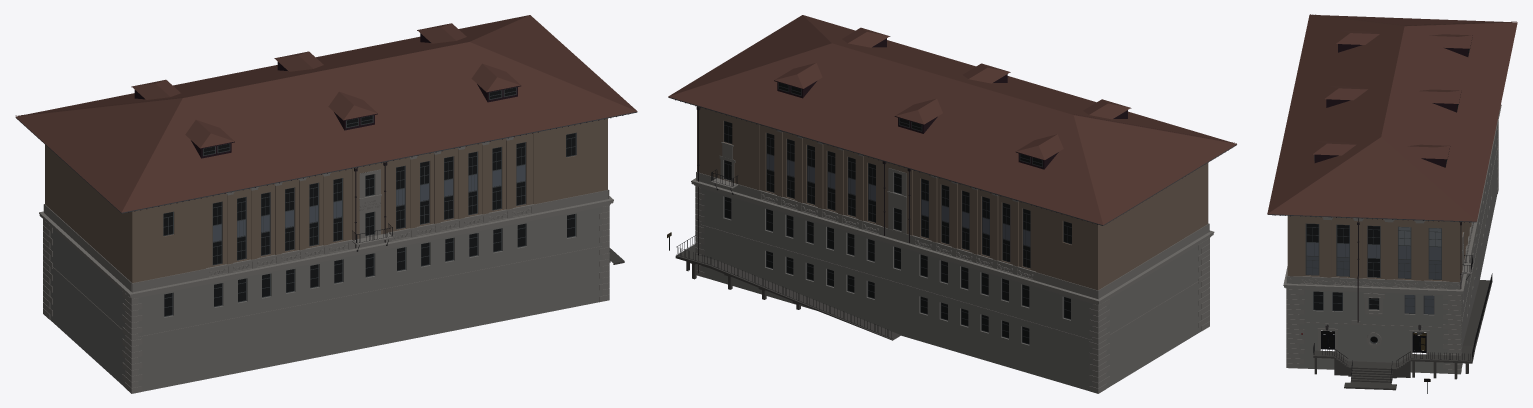
File: will-c-hogg-building-look.glb
3 views of the same model, side by side, from view 1: azimuth 30°, elevation 25°; view 2: azimuth 150°, elevation 25°; view 3: azimuth 270°, elevation 25° (orthographic). The views are drawn at different scales.
Parts seen in each view (by area): view 1: n_roof_tile, n_wall_stone, n_wall_brick, n_trim_stone, n_glass_window, n_frame_green, n_panel_spandrel, n_wood_redbrown, n_gutter_dark; view 2: n_roof_tile, n_wall_stone, n_wall_brick, n_trim_stone, n_glass_window, n_frame_green, n_steps_concrete, n_panel_spandrel, n_iron_black, n_wood_redbrown, n_gutter_dark; view 3: n_roof_tile, n_wall_stone, n_wall_brick, n_trim_stone, n_steps_concrete, n_frame_green, n_glass_window, n_blind_grey, n_panel_spandrel, n_wood_redbrown, n_iron_black, n_blind_white (+4 smaller).
Boxes of the visible parts, x1,y1,x2,y2 form: n_roof_tile: (15,15,637,212); n_wall_stone: (50,171,608,391); n_wall_brick: (45,118,607,282); n_trim_stone: (39,137,613,393); n_glass_window: (163,87,575,315); n_frame_green: (163,87,576,316); n_panel_spandrel: (213,165,525,241); n_wood_redbrown: (128,30,628,212); n_gutter_dark: (15,112,637,213); n_roof_tile: (668,15,1236,225); n_wall_stone: (701,188,1201,390); n_wall_brick: (697,106,1208,290); n_trim_stone: (691,130,1214,393); n_glass_window: (724,82,1071,343); n_frame_green: (723,82,1071,344); n_steps_concrete: (675,244,900,340); n_panel_spandrel: (767,154,1030,246); n_iron_black: (676,169,892,338); n_wood_redbrown: (675,36,1228,224); n_gutter_dark: (668,97,1236,225); n_roof_tile: (1267,14,1517,221); n_wall_stone: (1287,126,1497,373); n_wall_brick: (1287,215,1471,282); n_trim_stone: (1283,104,1501,374); n_steps_concrete: (1313,280,1492,390); n_frame_green: (1305,49,1469,343); n_glass_window: (1306,48,1469,310); n_blind_grey: (1306,255,1441,313); n_panel_spandrel: (1306,242,1441,260); n_wood_redbrown: (1275,35,1472,222); n_iron_black: (1313,255,1492,382); n_blind_white: (1398,227,1441,246).
Bounding box in the file's own units: 55.77 × 23.53 × 27.16.
